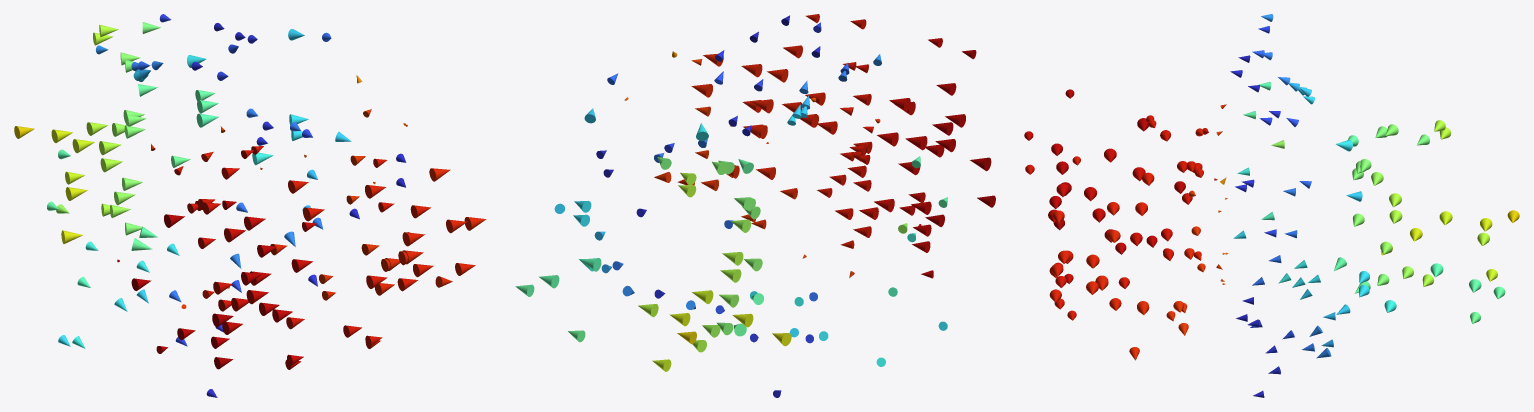
File: LineasCorrienteH2-O2_mh2-6.88_V-0.9.glb
3 renders of one model, left to right at view 1: azimuth 30°, elevation 25°; view 2: azimuth 150°, elevation 25°; view 3: azimuth 270°, elevation 25°, orthographic. The views are drawn at different scales.
Size of the model in its own units: 0.000921 by 0.000964 by 0.00123.
2 materials, 2 textured.
